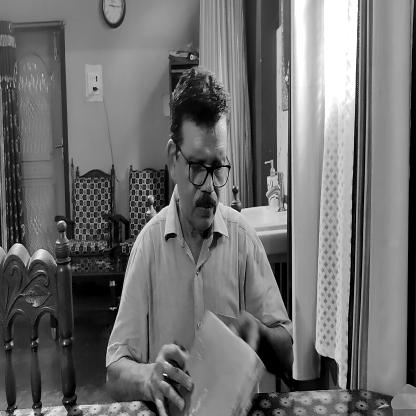Normal: (165, 64, 233, 247)
